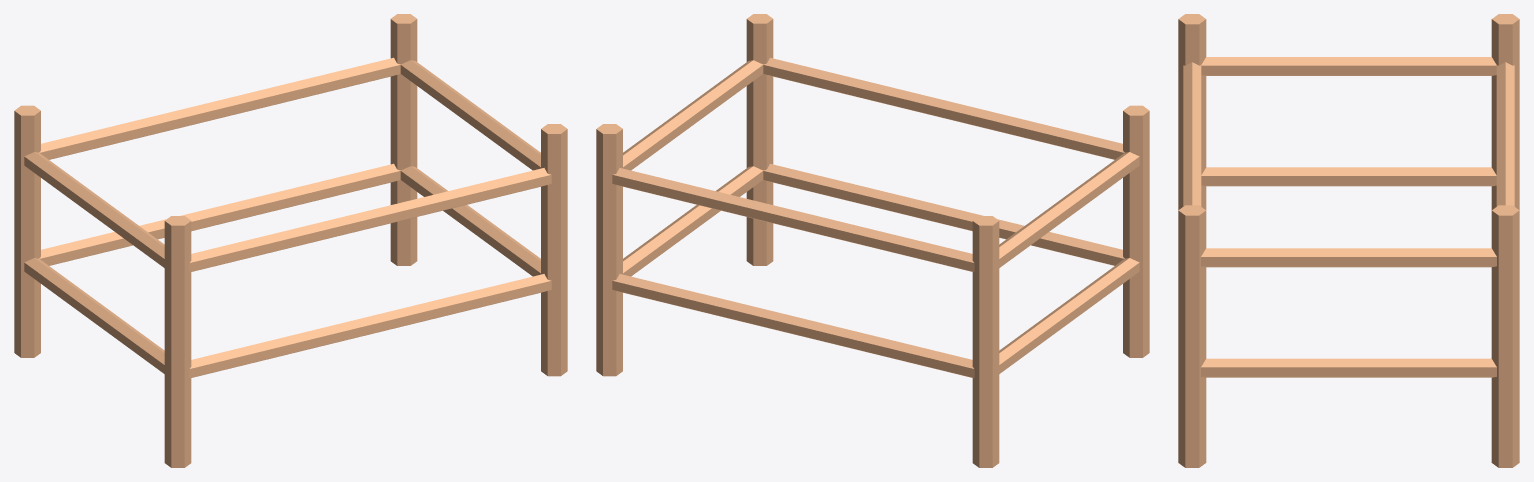
3 views of the same model, side by side, from view 1: azimuth 30°, elevation 25°; view 2: azimuth 150°, elevation 25°; view 3: azimuth 270°, elevation 25° (orthographic). The views are drawn at different scales.
Visible parts, largest first — view 1: Fence post, Fence rail, Fence rail.002, Fence rail.003, Fence post.002, Fence post.001, Fence rail.001, Fence post.003, Fence end, Fence end.002, Fence end.003, Fence end.001; view 2: Fence post.001, Fence rail.001, Fence rail.003, Fence rail.002, Fence post.003, Fence post, Fence rail, Fence post.002, Fence end, Fence end.002, Fence end.003, Fence end.001; view 3: Fence post.002, Fence post.003, Fence end.001, Fence end, Fence end.003, Fence end.002, Fence post, Fence post.001, Fence rail.002, Fence rail.003.
Part boxes in pixels (x1,y1,x2,y2): Fence post: [164, 216, 191, 467]; Fence rail: [189, 274, 551, 377]; Fence rail.002: [189, 168, 551, 271]; Fence rail.003: [39, 57, 400, 159]; Fence post.002: [541, 124, 567, 376]; Fence post.001: [14, 105, 40, 357]; Fence rail.001: [39, 163, 400, 265]; Fence post.003: [390, 14, 417, 265]; Fence end: [24, 258, 164, 373]; Fence end.002: [24, 152, 164, 267]; Fence end.003: [400, 60, 540, 170]; Fence end.001: [400, 166, 540, 276]; Fence post.001: [972, 216, 999, 467]; Fence rail.001: [612, 274, 974, 377]; Fence rail.003: [612, 168, 974, 271]; Fence rail.002: [763, 57, 1124, 159]; Fence post.003: [596, 124, 622, 376]; Fence post: [1123, 105, 1149, 357]; Fence rail: [763, 163, 1124, 265]; Fence post.002: [746, 14, 773, 265]; Fence end: [999, 258, 1139, 373]; Fence end.002: [999, 152, 1139, 267]; Fence end.003: [623, 60, 763, 170]; Fence end.001: [623, 166, 763, 276]; Fence post.002: [1178, 205, 1206, 467]; Fence post.003: [1491, 205, 1519, 467]; Fence end.001: [1201, 358, 1496, 377]; Fence end: [1201, 167, 1496, 186]; Fence end.003: [1201, 248, 1496, 267]; Fence end.002: [1201, 57, 1496, 75]; Fence post: [1178, 14, 1206, 209]; Fence post.001: [1491, 14, 1519, 209]; Fence rail.002: [1183, 62, 1201, 206]; Fence rail.003: [1496, 62, 1514, 206].
Bounding box in the file's own units: 1.37 × 0.8 × 0.98.
1 material, 1 textured.
